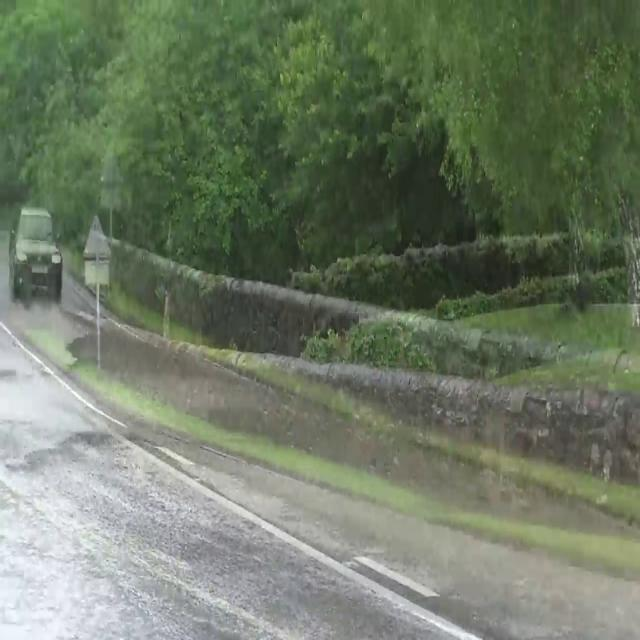license-plate-annotation: (29, 258, 51, 278)
